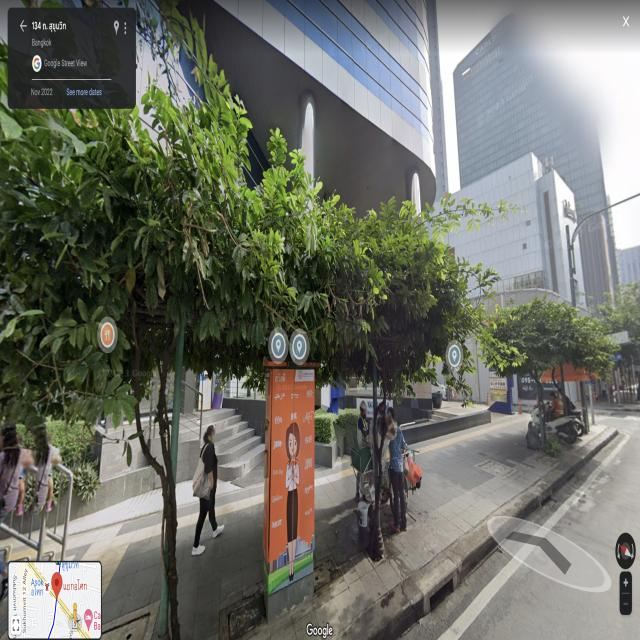tree: (0, 116, 263, 549), (318, 199, 459, 563), (481, 272, 606, 468)
